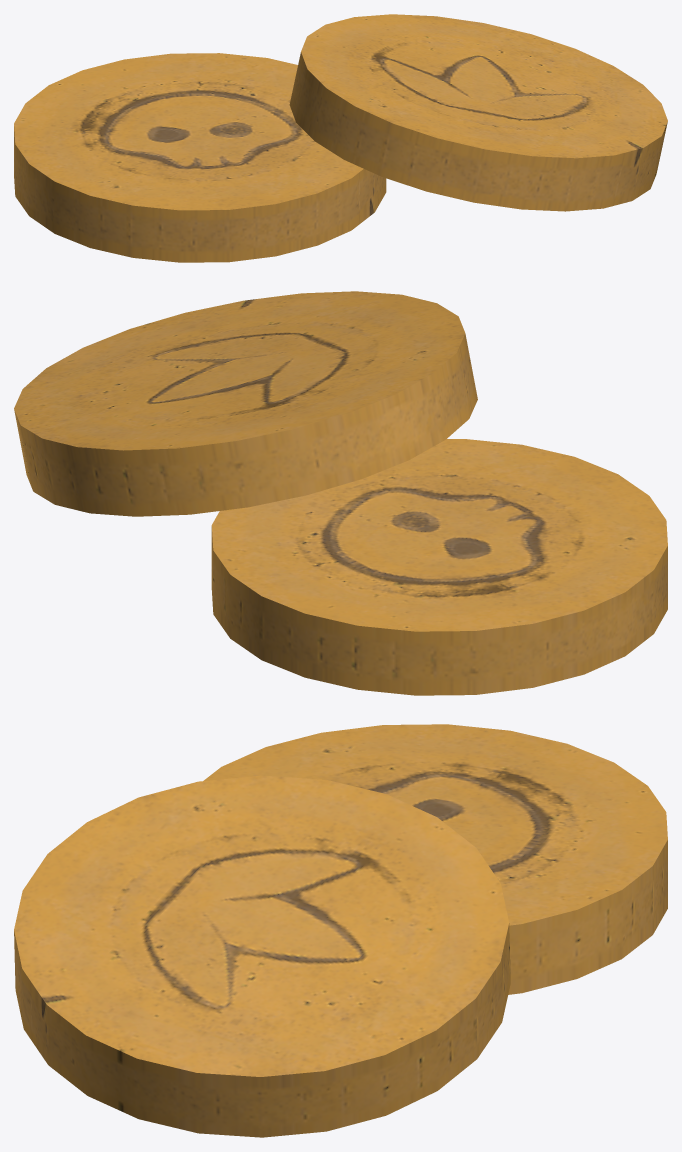
File: SM_Potion_Props_Loot_Coin_01_B.fbx
The picture shows the model from 3 angles, top to bottom: view 1: azimuth 30°, elevation 25°; view 2: azimuth 150°, elevation 25°; view 3: azimuth 270°, elevation 25°; orthographic projection. The views are drawn at different scales.
Parts seen in each view (by area): view 1: SM_Potion_Props_Loot_Coin_01_B_LOD0; view 2: SM_Potion_Props_Loot_Coin_01_B_LOD0; view 3: SM_Potion_Props_Loot_Coin_01_B_LOD0.
Part boxes in pixels (<box>): SM_Potion_Props_Loot_Coin_01_B_LOD0: <box>14,14,667,262</box>; SM_Potion_Props_Loot_Coin_01_B_LOD0: <box>14,291,667,695</box>; SM_Potion_Props_Loot_Coin_01_B_LOD0: <box>14,724,667,1137</box>.
Size of what is drawn, in the model's own units: 10.14 by 2.22 by 7.99.
